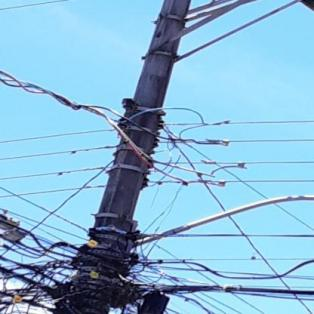Poste: (35, 0, 247, 314)
